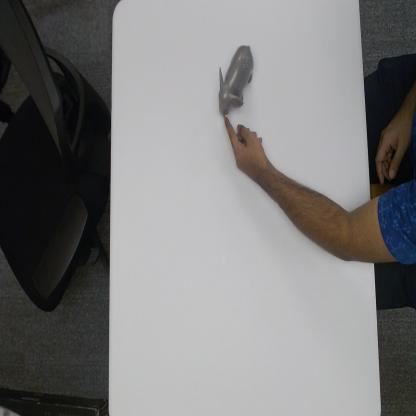Arm: (267, 155, 370, 264)
Elephant: (217, 43, 255, 118)
Hand: (224, 115, 266, 185)
